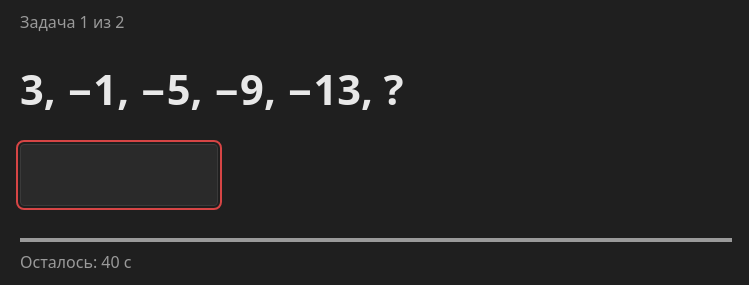
Test case: NumSeriesView › «−17» + Enter stores −17 and goes to the next item; after the last one submits all answers
Later steps or results of the test are not shown.
Type "−17" into the field named "Ответ" at point(119, 175), box [20,144,218,206]
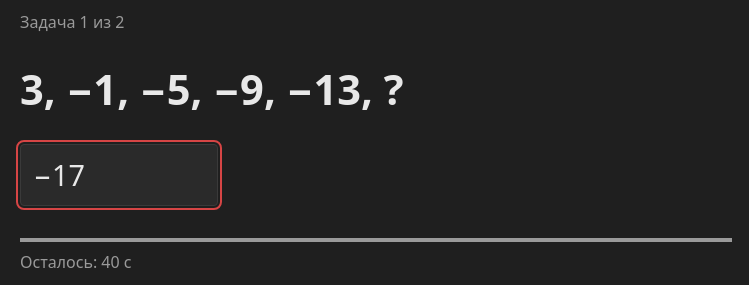
Press Enter in the field named "Ответ", box [20,144,218,206]
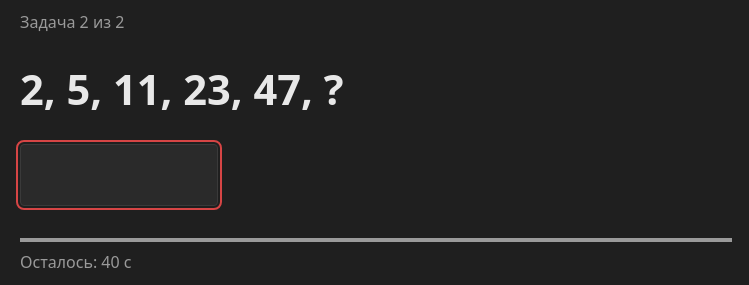
Now the text "2, 5, 11, 23, 47, ?" is shown, box [20,61,344,117]
Now the field named "Ответ" is empty, box [20,144,218,206]
